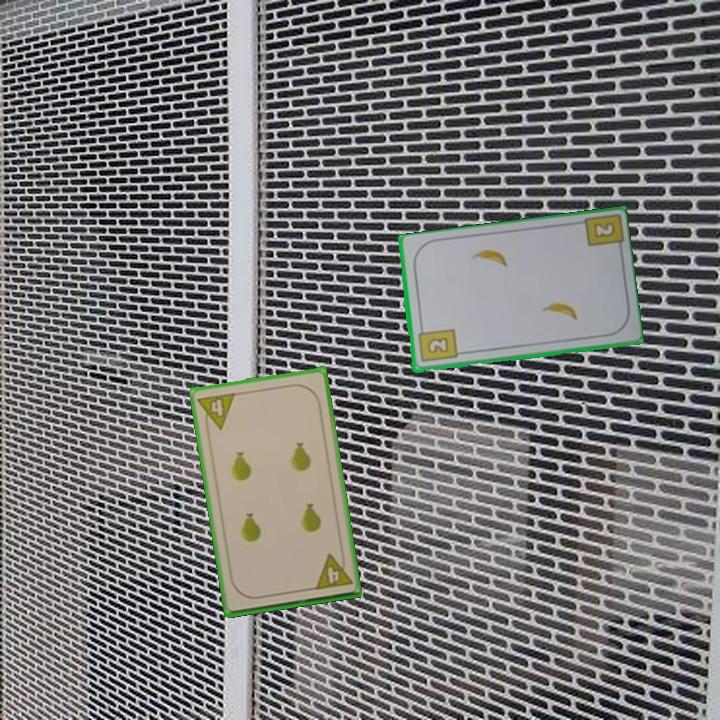2b: (414, 323, 459, 365), (590, 218, 618, 241)
4p: (194, 389, 238, 434), (311, 549, 355, 593)
